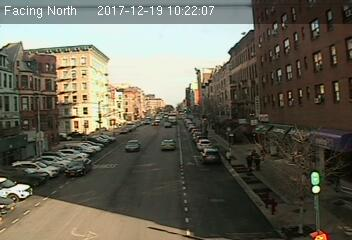car: (64, 158, 92, 176), (200, 148, 222, 163), (160, 138, 176, 151), (125, 139, 141, 152)
